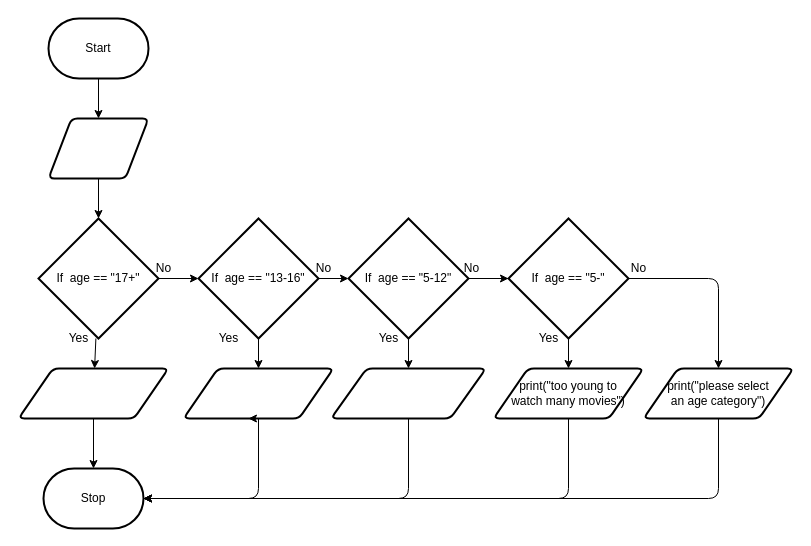
The diagram is 811 pixels wide and 546 high, and some of its shapes have lost their labels. Here are the shapes that lost their labels. From the top down, the centre of each, then its label:
pixel 98 148: Select age category
pixel 93 393: print("watch a R rated movie")
pixel 258 393: print("watch a PG 13 rated movie")
pixel 408 393: print("watch a PG or G rated movie")
